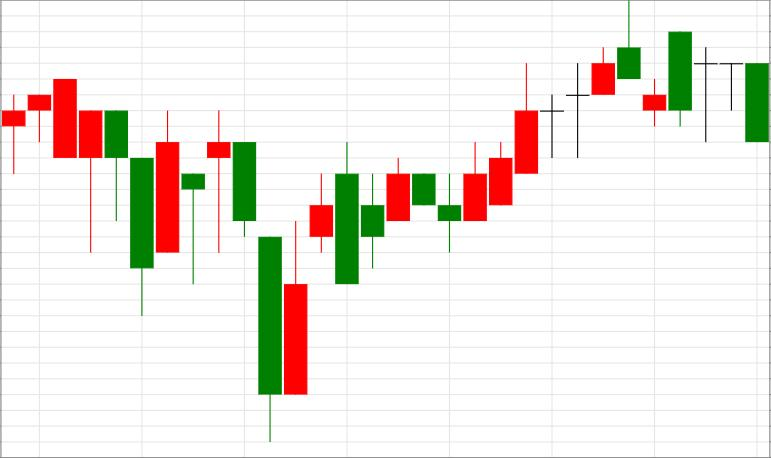shooting_star_fall: (464, 0, 641, 222)
